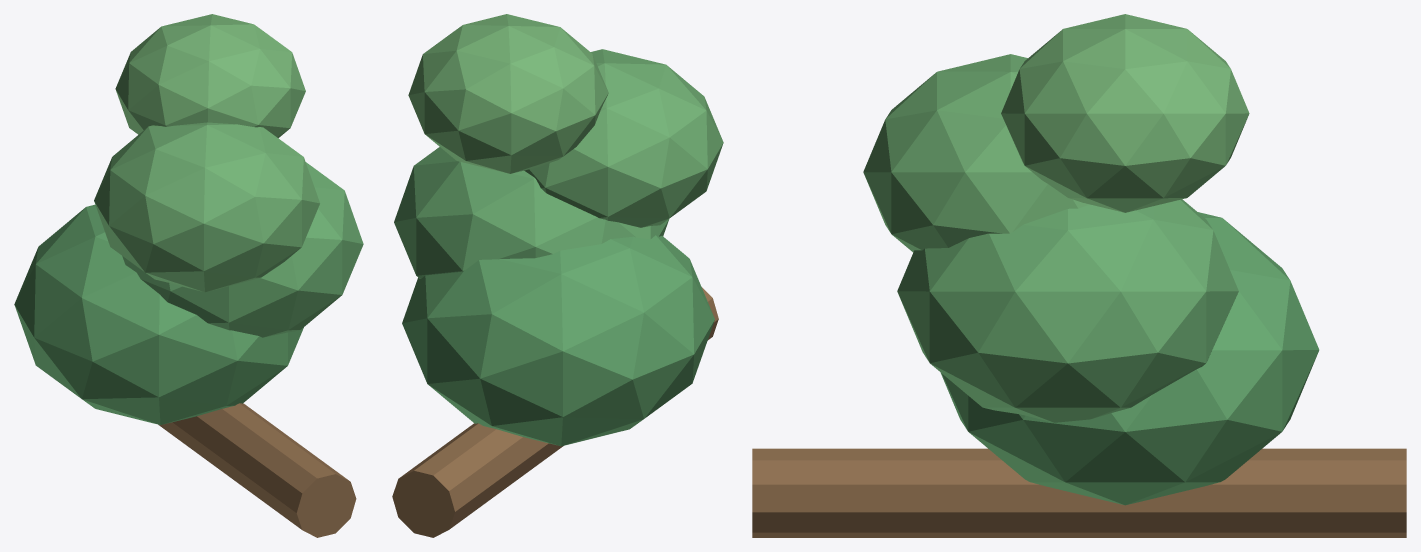
File: tree_pine.glb
3 views of the same model, side by side, from view 1: azimuth 30°, elevation 25°; view 2: azimuth 150°, elevation 25°; view 3: azimuth 270°, elevation 25° (orthographic). The views are drawn at different scales.
Visible parts, largest first — view 1: crown_0, crown_2, crown_3, crown_1, trunk; view 2: crown_0, crown_3, crown_2, crown_1, trunk; view 3: crown_1, trunk, crown_0, crown_3, crown_2.
Part boxes in pixels (x1,y1,x2,y2): crown_0: [14, 204, 303, 424]; crown_2: [94, 122, 319, 292]; crown_3: [115, 14, 305, 138]; crown_1: [122, 162, 363, 337]; trunk: [158, 403, 356, 537]; crown_0: [402, 235, 714, 446]; crown_3: [408, 14, 608, 173]; crown_2: [524, 49, 723, 227]; crown_1: [394, 147, 669, 278]; trunk: [392, 287, 718, 537]; crown_1: [897, 199, 1238, 422]; trunk: [752, 448, 1406, 537]; crown_0: [941, 212, 1319, 505]; crown_3: [1001, 14, 1249, 212]; crown_2: [863, 54, 1089, 252].
Size of the model in its own units: 2.14 by 2.81 by 3.2.
